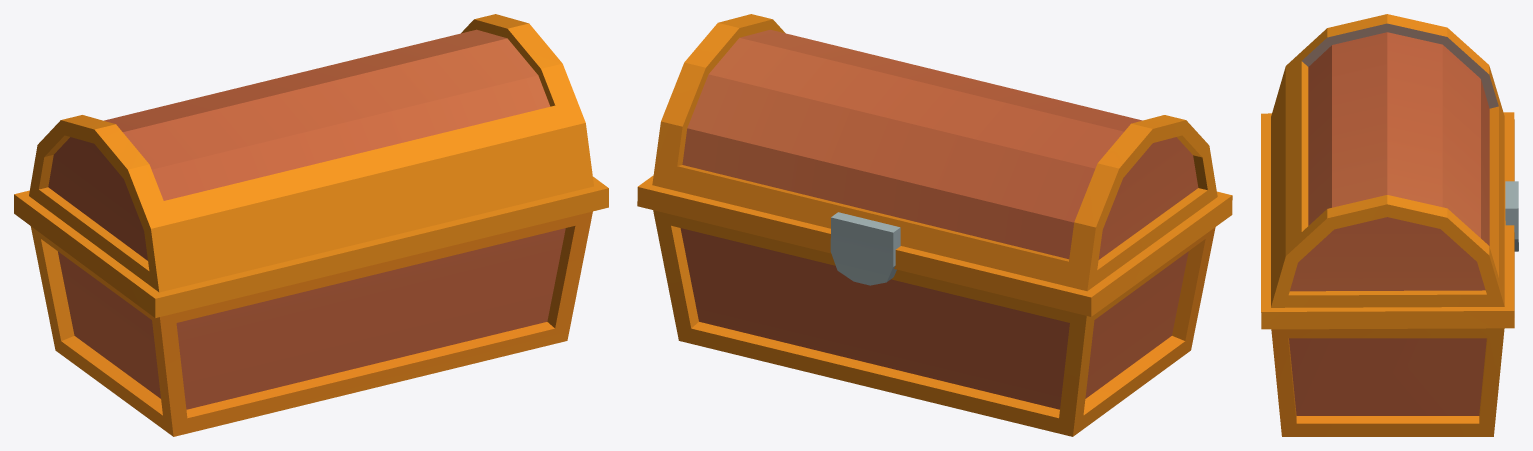
File: TreasureChest.fbx
3 views of the same model, side by side, from view 1: azimuth 30°, elevation 25°; view 2: azimuth 150°, elevation 25°; view 3: azimuth 270°, elevation 25° (orthographic). The views are drawn at different scales.
Visible parts, largest first — view 1: Plane, Plane.001; view 2: Plane, Plane.001; view 3: Plane, Plane.001.
Part boxes in pixels (bbox=[...]): Plane: bbox=[14, 14, 608, 317]; Plane.001: bbox=[30, 211, 592, 436]; Plane: bbox=[637, 14, 1232, 316]; Plane.001: bbox=[653, 210, 1215, 436]; Plane: bbox=[1261, 14, 1518, 329]; Plane.001: bbox=[1271, 328, 1504, 436].
Size of the model in its own units: 209 by 118 by 114.
